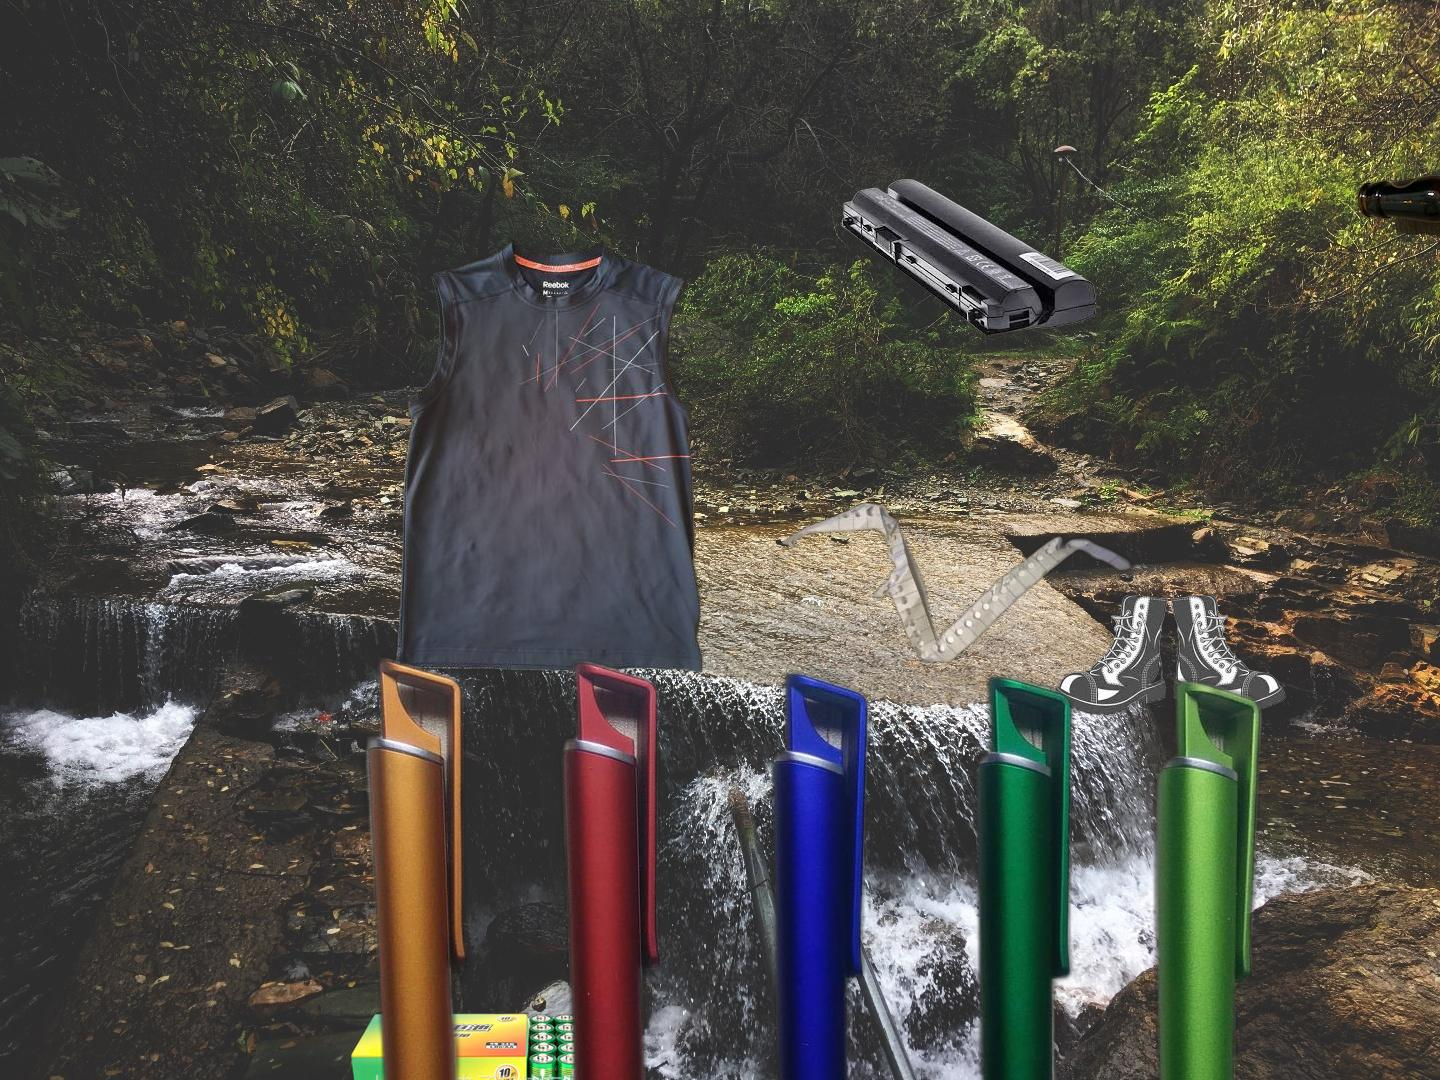battery: (839, 176, 1098, 340), (349, 1011, 645, 1080)
clothes: (354, 236, 708, 723)
glass: (1354, 137, 1440, 267)
paper: (777, 499, 1136, 667)
penholder: (357, 624, 1305, 1080), (1352, 852, 1440, 1080)
shoes: (1050, 592, 1289, 722)
